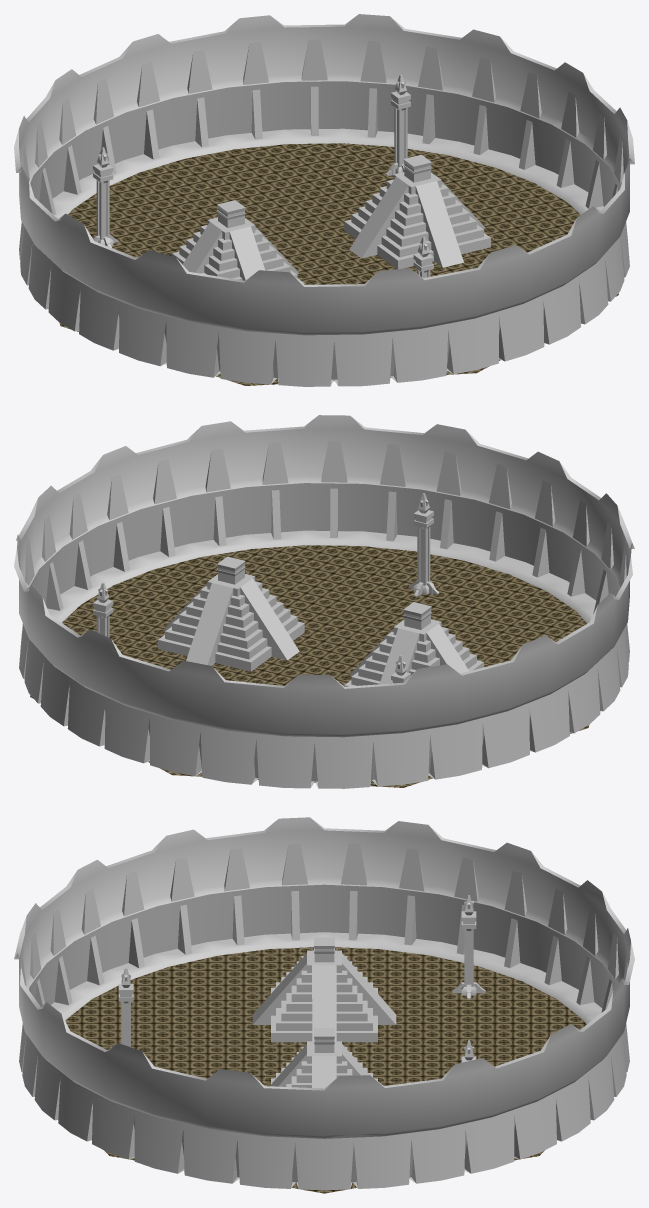
The model's file is arenaLitFBX.fbx.
3 renders of one model, top to bottom at view 1: azimuth 30°, elevation 25°; view 2: azimuth 150°, elevation 25°; view 3: azimuth 270°, elevation 25°, orthographic.
Parts seen in each view (by area): view 1: polySurface330, polySurface288, polySurface326, polySurface325, polySurface329, polySurface328, polySurface327; view 2: polySurface330, polySurface288, polySurface326, polySurface325, polySurface327, polySurface328; view 3: polySurface330, polySurface288, polySurface325, polySurface326, polySurface329, polySurface327.
Boxes of the visible parts, <box> form: polySurface330: <box>14,14,634,386</box>; polySurface288: <box>59,143,618,385</box>; polySurface326: <box>344,154,490,269</box>; polySurface325: <box>172,200,304,284</box>; polySurface329: <box>93,147,118,247</box>; polySurface328: <box>385,74,410,176</box>; polySurface327: <box>413,237,433,278</box>; polySurface330: <box>14,415,634,788</box>; polySurface288: <box>30,545,589,787</box>; polySurface326: <box>158,556,304,671</box>; polySurface325: <box>344,602,484,686</box>; polySurface327: <box>408,493,439,597</box>; polySurface328: <box>93,582,113,637</box>; polySurface330: <box>14,817,634,1190</box>; polySurface288: <box>65,947,586,1193</box>; polySurface325: <box>252,937,396,1042</box>; polySurface326: <box>270,1028,377,1088</box>; polySurface329: <box>452,895,485,999</box>; polySurface327: <box>118,967,133,1047</box>.
Size of the model in its own units: 301 by 63.76 by 301.
